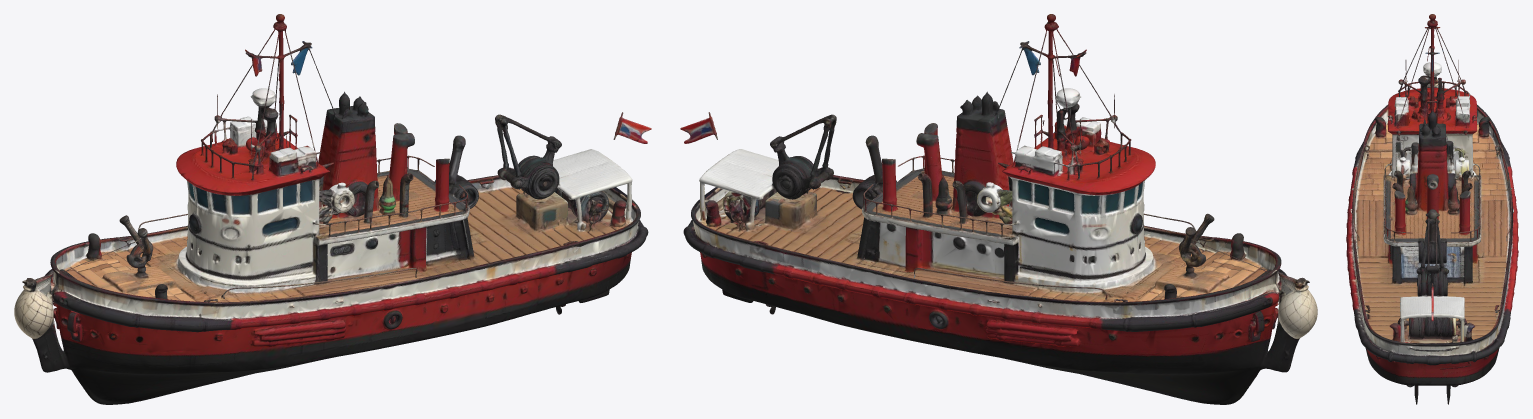
File: small-boat-optimized.glb
3 renders of one model, left to right at view 1: azimuth 30°, elevation 25°; view 2: azimuth 150°, elevation 25°; view 3: azimuth 270°, elevation 25°, orthographic. The views are drawn at different scales.
Parts seen in each view (by area): view 1: Mesh_0; view 2: Mesh_0; view 3: Mesh_0.
Part boxes in pixels (box(x1,y1,x2,y2)): Mesh_0: box(14, 14, 651, 404); Mesh_0: box(680, 14, 1317, 404); Mesh_0: box(1346, 14, 1518, 404).
Size of the model in its own units: 24.41 by 13 by 7.43.
1 material, 1 textured.
